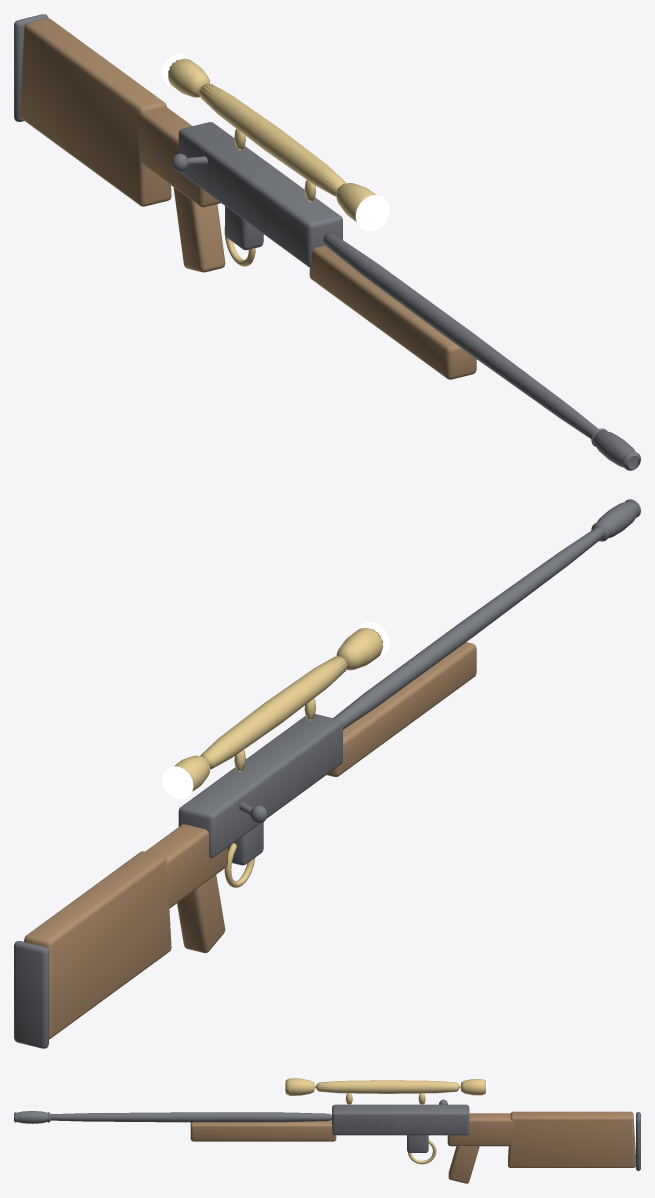
The model's file is RifleLargo.fbx.
3 renders of one model, top to bottom at view 1: azimuth 30°, elevation 25°; view 2: azimuth 150°, elevation 25°; view 3: azimuth 270°, elevation 25°, orthographic. The views are drawn at different scales.
Parts seen in each view (by area): view 1: Culata, Cajon de mecanismos, Canon, Guardamanos, Mira telescopica, Lentes, Cantonera; view 2: Culata, Cajon de mecanismos, Canon, Mira telescopica, Guardamanos, Cantonera, Lentes; view 3: Culata, Cajon de mecanismos, Canon, Guardamanos, Mira telescopica, Cantonera, Guardamonte.
Part boxes in pixels (box(x1,y1,x2,y2)): Culata: box(19, 18, 225, 272); Cajon de mecanismos: box(178, 122, 342, 267); Canon: box(323, 233, 640, 470); Guardamanos: box(309, 245, 476, 379); Mira telescopica: box(168, 58, 376, 221); Lentes: box(162, 53, 389, 230); Cantonera: box(14, 14, 48, 121); Culata: box(24, 824, 227, 1039); Cajon de mecanismos: box(178, 714, 342, 865); Canon: box(333, 499, 640, 729); Mira telescopica: box(174, 628, 383, 791); Guardamanos: box(327, 642, 476, 776); Cantonera: box(14, 941, 48, 1048); Lentes: box(162, 622, 389, 799); Culata: box(447, 1111, 635, 1183); Cajon de mecanismos: box(332, 1104, 469, 1152); Canon: box(14, 1111, 331, 1123); Guardamanos: box(190, 1120, 336, 1141); Mira telescopica: box(285, 1078, 485, 1104); Cantonera: box(636, 1112, 640, 1170); Guardamonte: box(408, 1140, 436, 1164).
Bounding box in the file's own units: 0.0905 × 0.2659 × 1.46.
